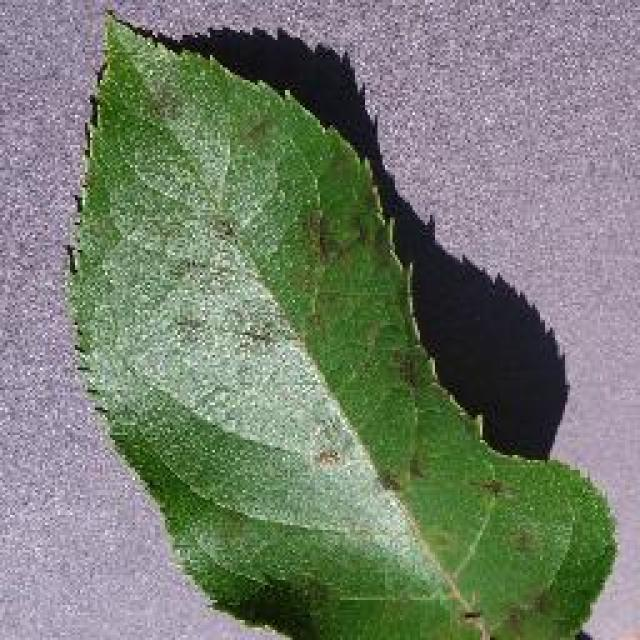apple scab disease: (62, 8, 620, 638)
